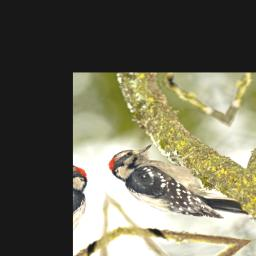Woodpecker: (102, 127, 256, 250)
